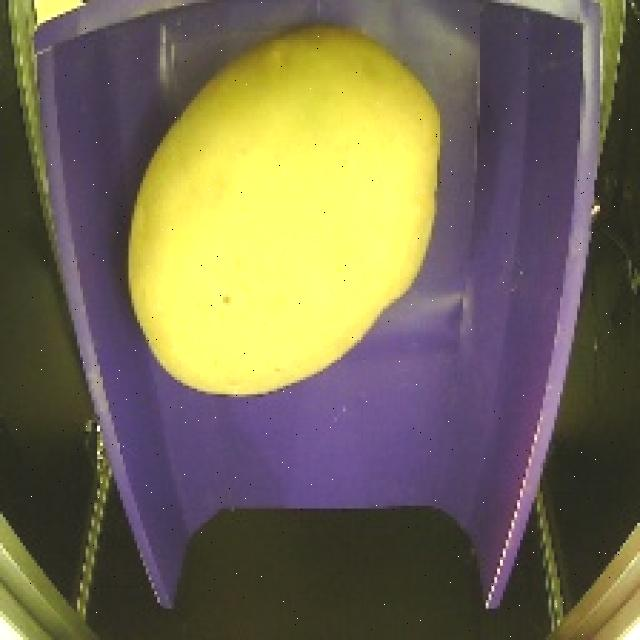full_potato: (105, 21, 450, 408)
